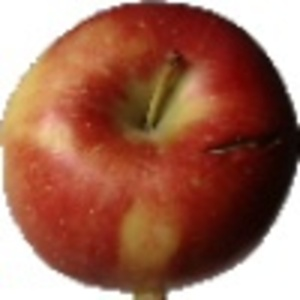maçã braeburn: (1, 1, 299, 288)
